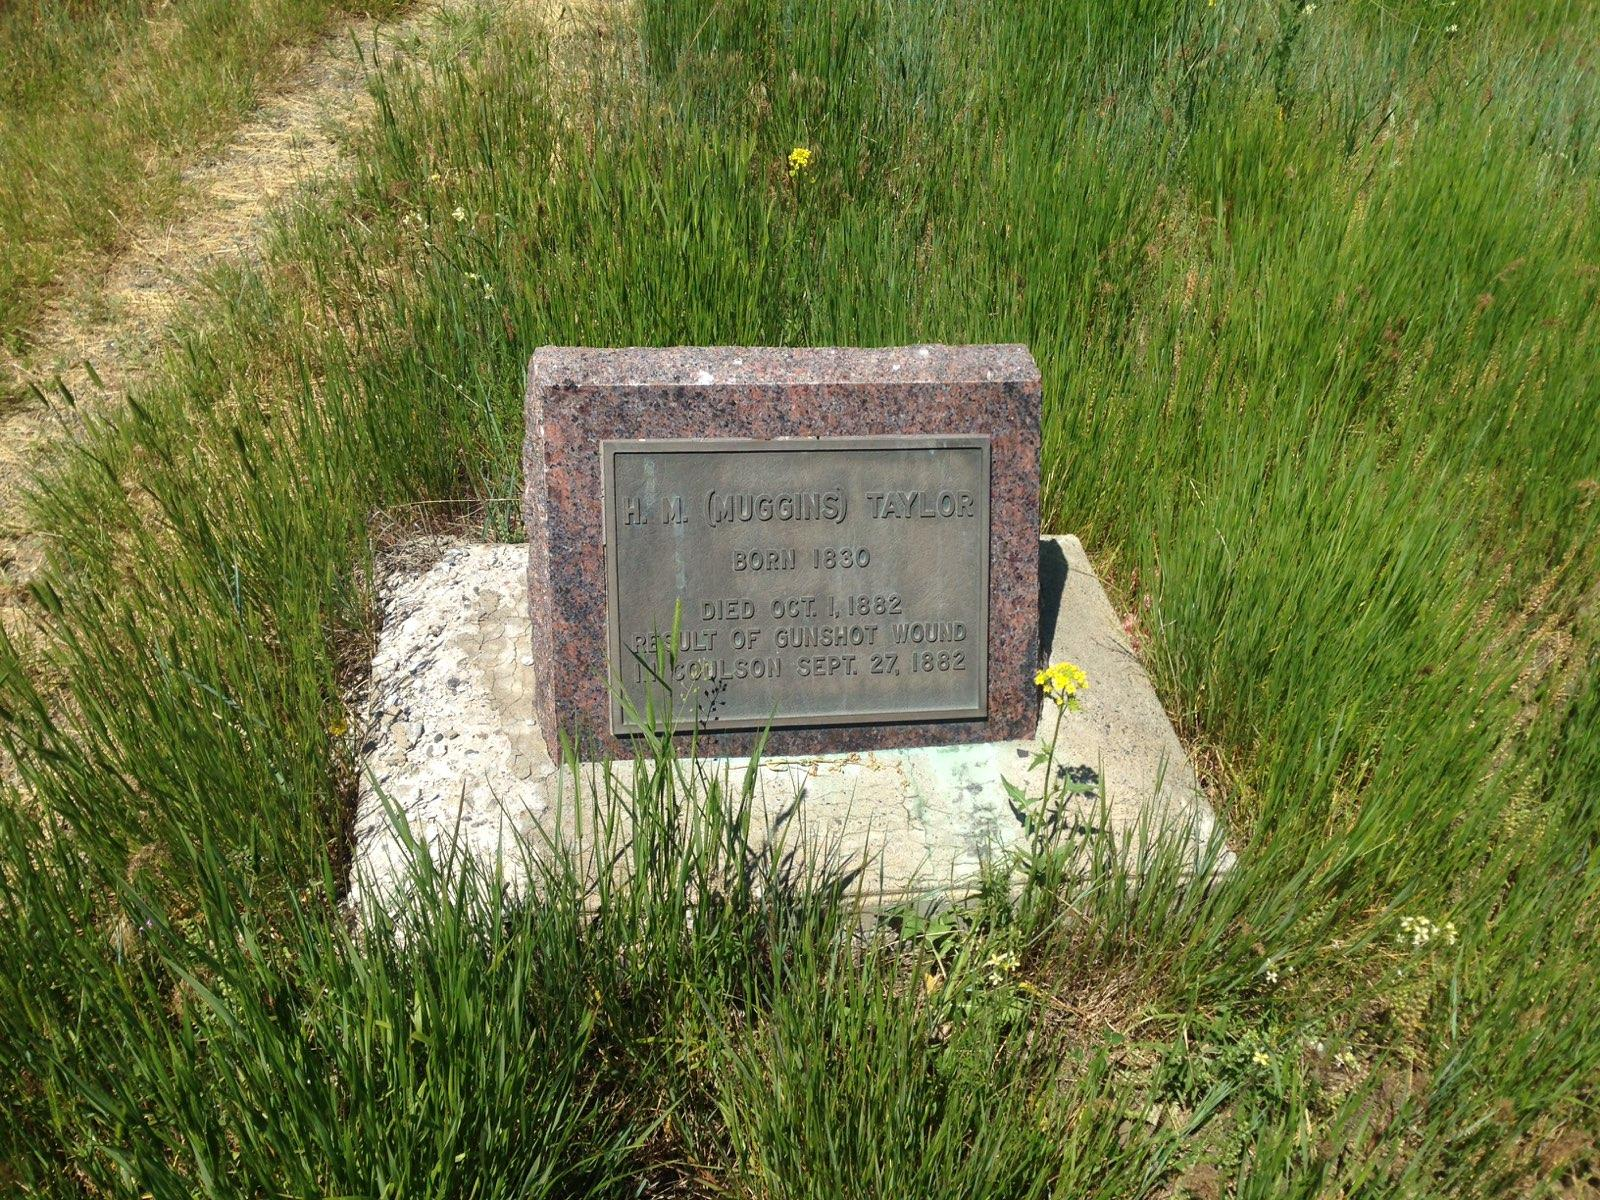slant: (517, 342, 1046, 761)
